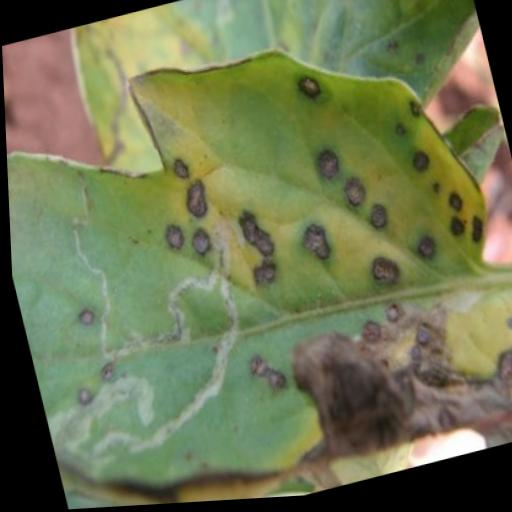Leaf_Miner: (7, 192, 269, 486)
Septoria: (0, 0, 512, 512)
